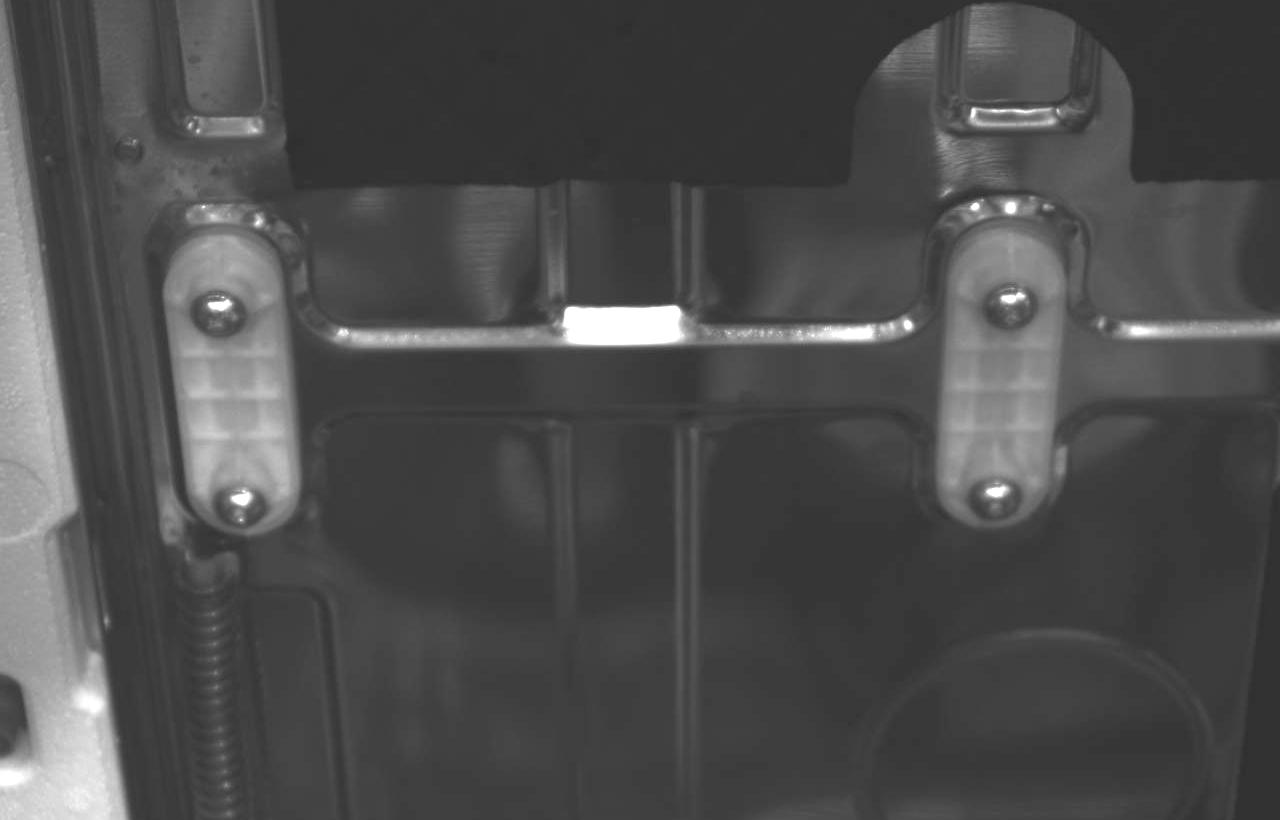vida-ok: (186, 282, 257, 349), (976, 272, 1043, 339), (963, 461, 1029, 529), (210, 475, 276, 534)
